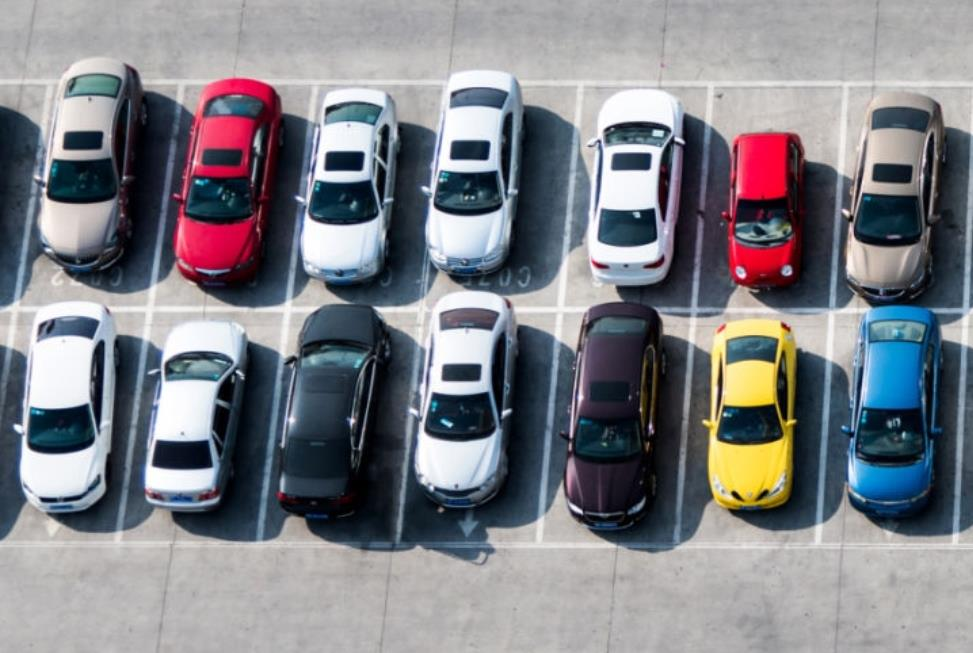car: (266, 299, 392, 517), (555, 298, 666, 539), (35, 55, 151, 275), (836, 303, 948, 521), (407, 289, 516, 511), (10, 298, 118, 519), (840, 89, 949, 306), (172, 75, 283, 287), (419, 69, 528, 273), (143, 316, 250, 516), (294, 87, 400, 288), (583, 84, 686, 287), (701, 313, 798, 521), (723, 128, 808, 295)
